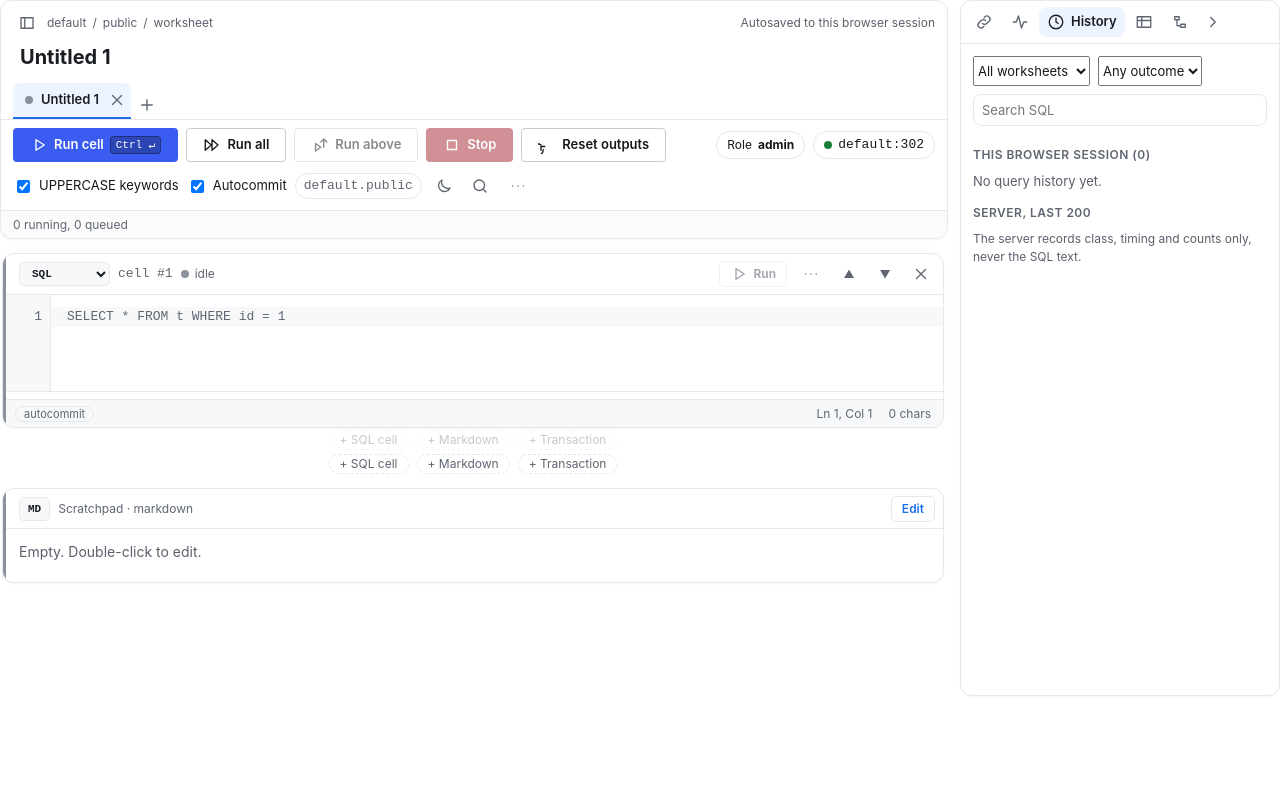
Test: guided results and errors › marks an IF NOT EXISTS no-op as completed with nothing changed
Step 1. Type "CREATE SCHEMA IF NOT EXISTS analytics" into the text box named "Cell 1 SQL" → coordinates (497, 343), box [51,295,943,391]
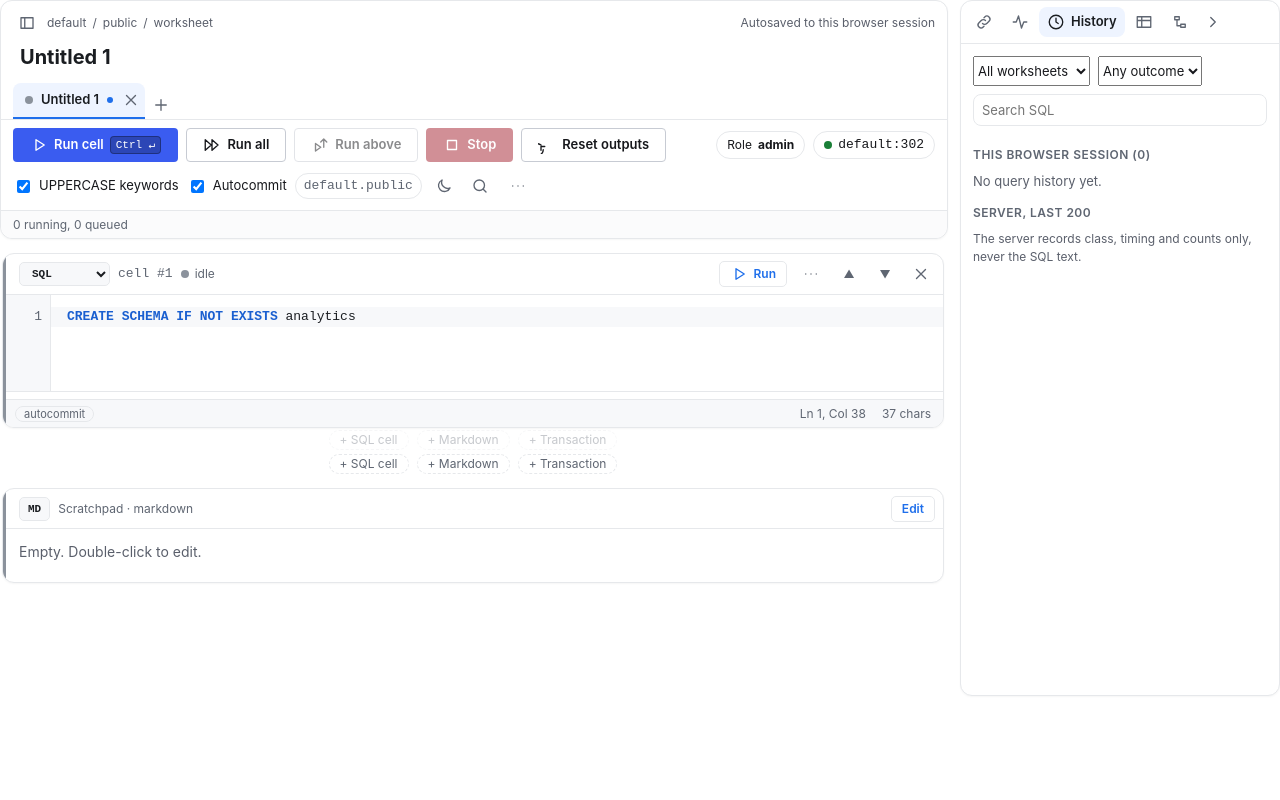
Step 2. Click the button with aria-label "Run cell 1" → coordinates (753, 274), box [720,261,787,287]
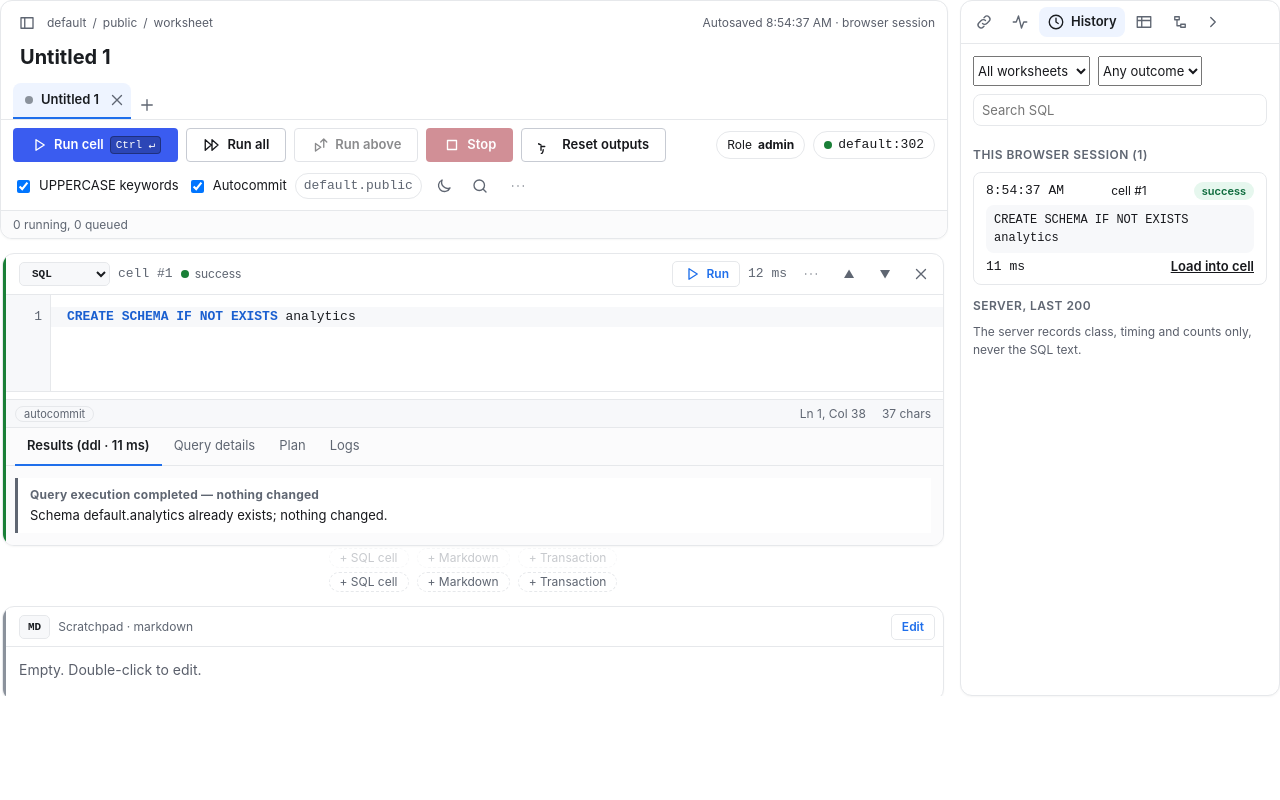
Result: the text "Query execution completed — nothing changed" is shown at [30,486,319,502]
Result: the text "Schema default.analytics already exists; nothing changed." is shown at [30,506,388,522]
